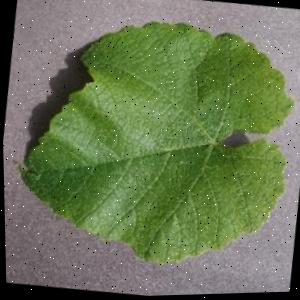Folha: (3, 2, 300, 284)
